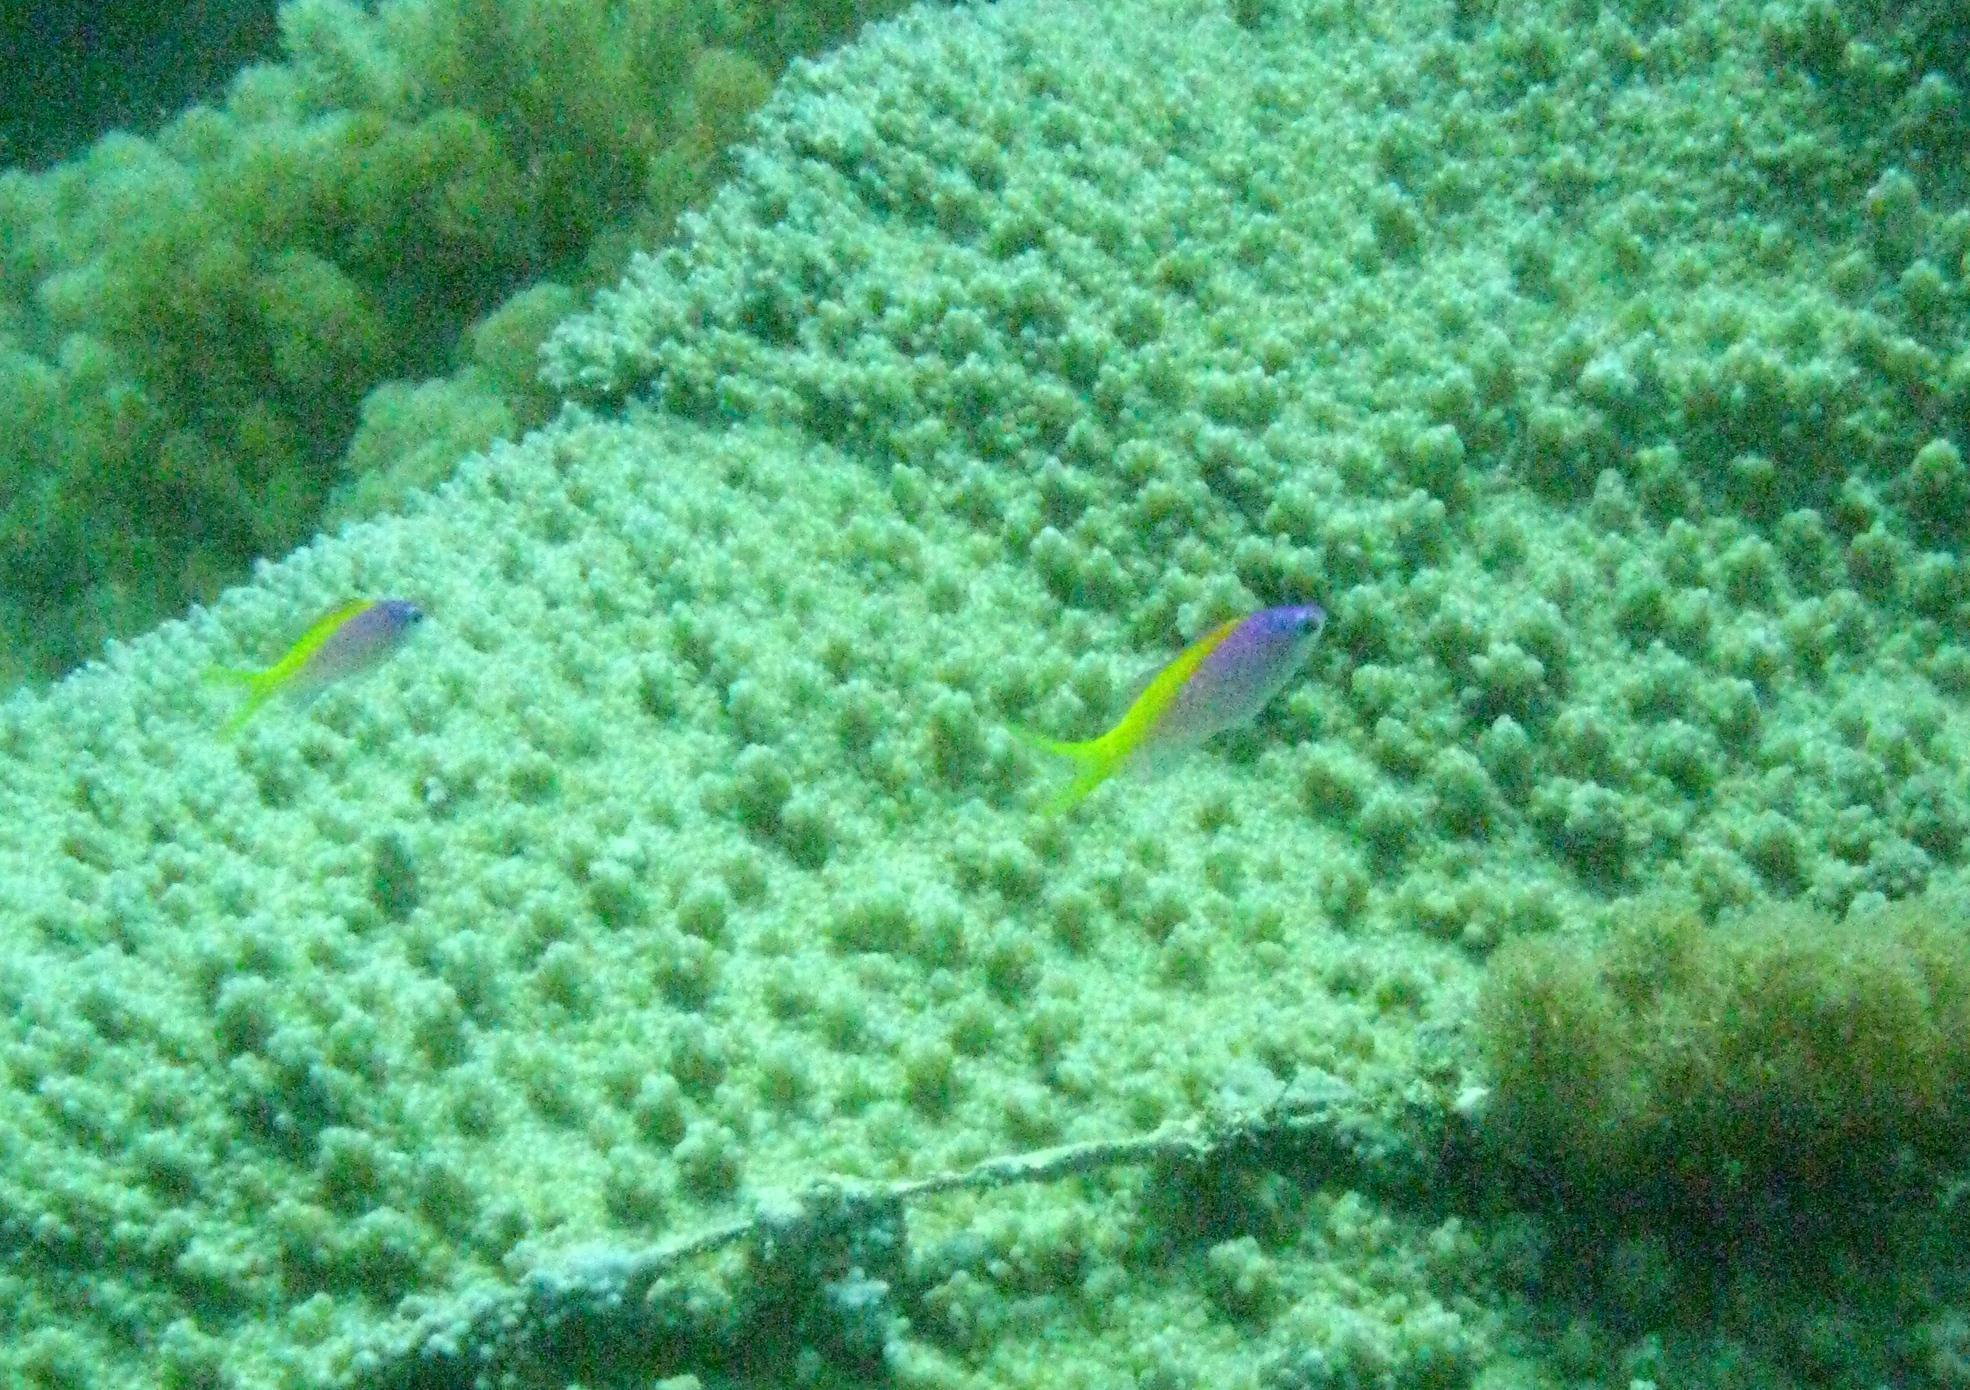Fish: (147, 438, 568, 845), (917, 530, 1396, 886)
